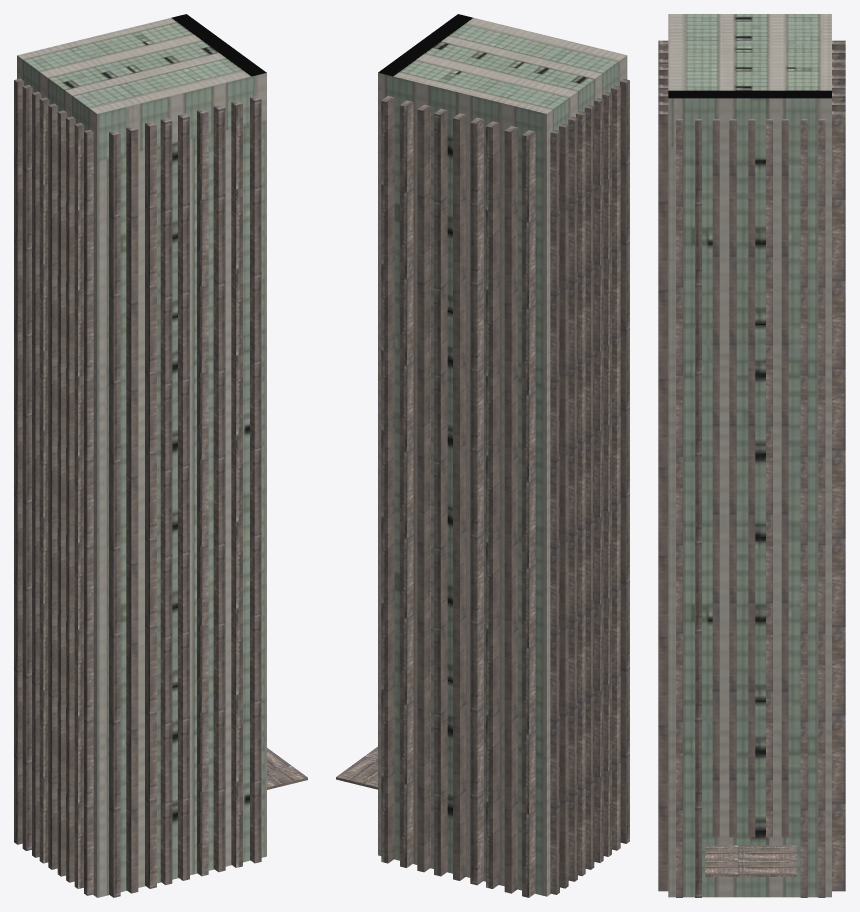
Rendered from LargeBuilding_High.fbx.
3 views of the same model, side by side, from view 1: azimuth 30°, elevation 25°; view 2: azimuth 150°, elevation 25°; view 3: azimuth 270°, elevation 25° (orthographic). The views are drawn at different scales.
Visible parts, largest first — view 1: pCube349; view 2: pCube349; view 3: pCube349.
Part boxes in pixels (x1,y1,x2,y2): pCube349: (14,14,307,897); pCube349: (336,14,629,897); pCube349: (658,14,845,897).
Size of the model in its own units: 18.6 by 59.31 by 12.6.
